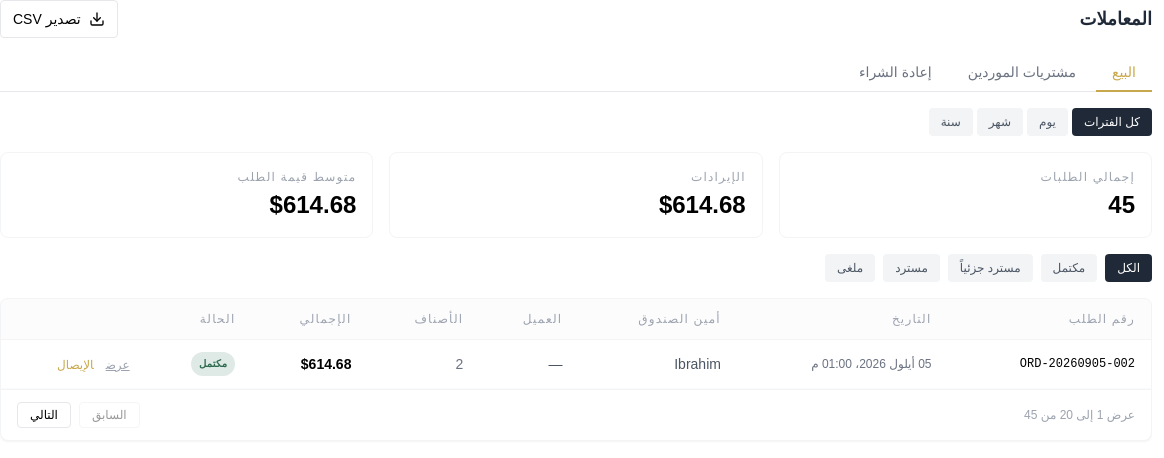
Test: orders list in Arabic (NEX-64) › supplier purchases tab: headers, payment mode and gram unit are Arabic
Click the button "مشتريات الموردين".
click(1022, 73)  # box [952,54,1092,92]
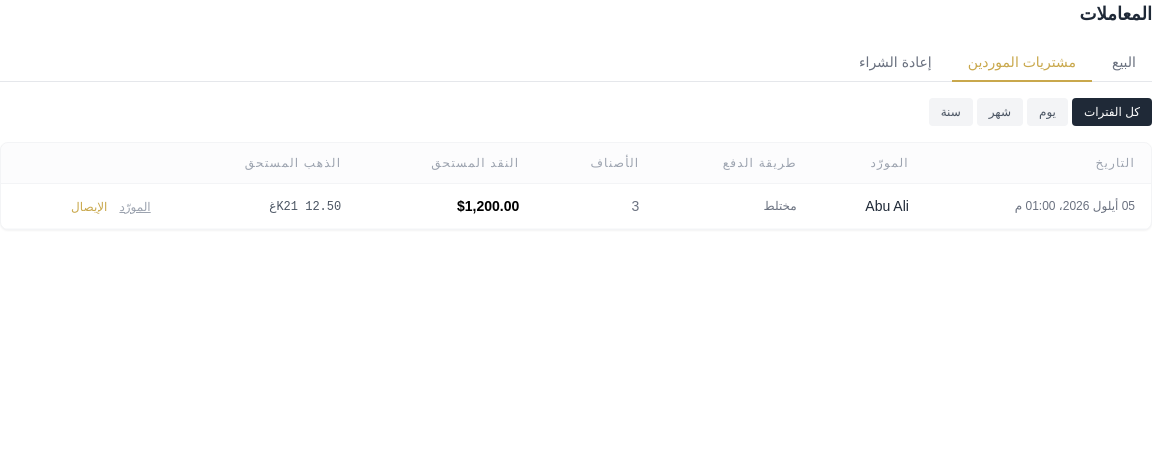
Result: the text "مختلط" is shown at [655,184,813,228]
